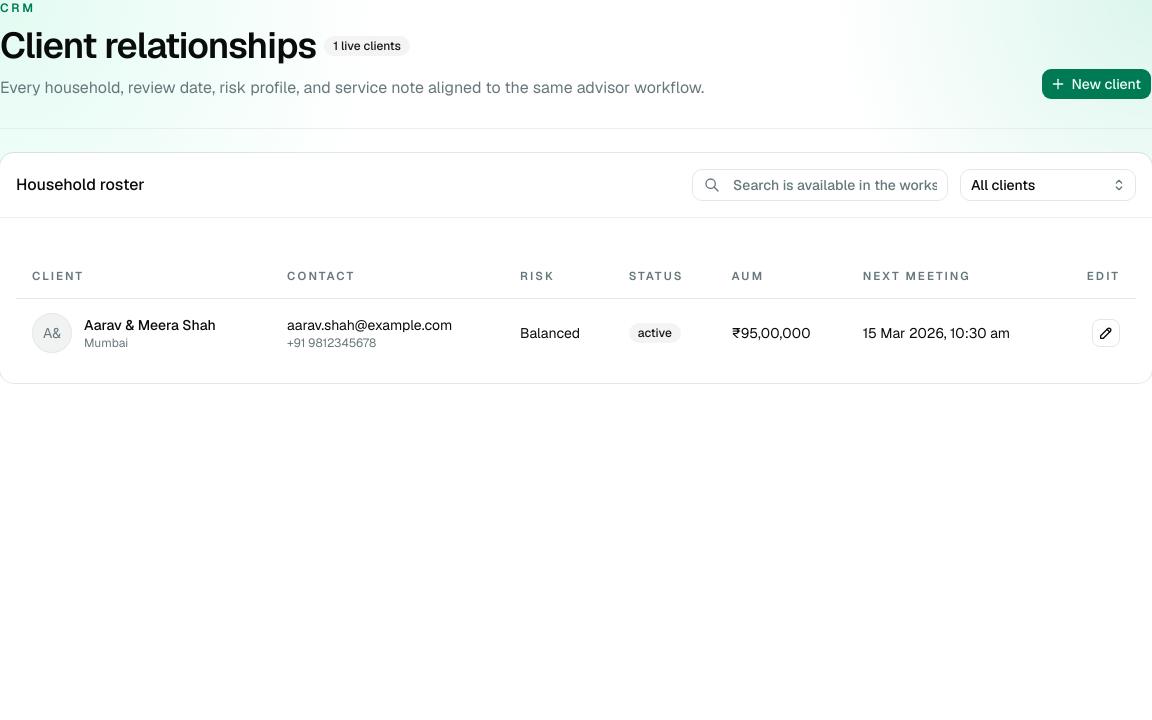
Scenario: ClientsPage › opens the new client intake dialog on user interaction
This screenshot has width=1152, height=720.
Click the button "New client": (1096, 84) [1040,68,1151,100]
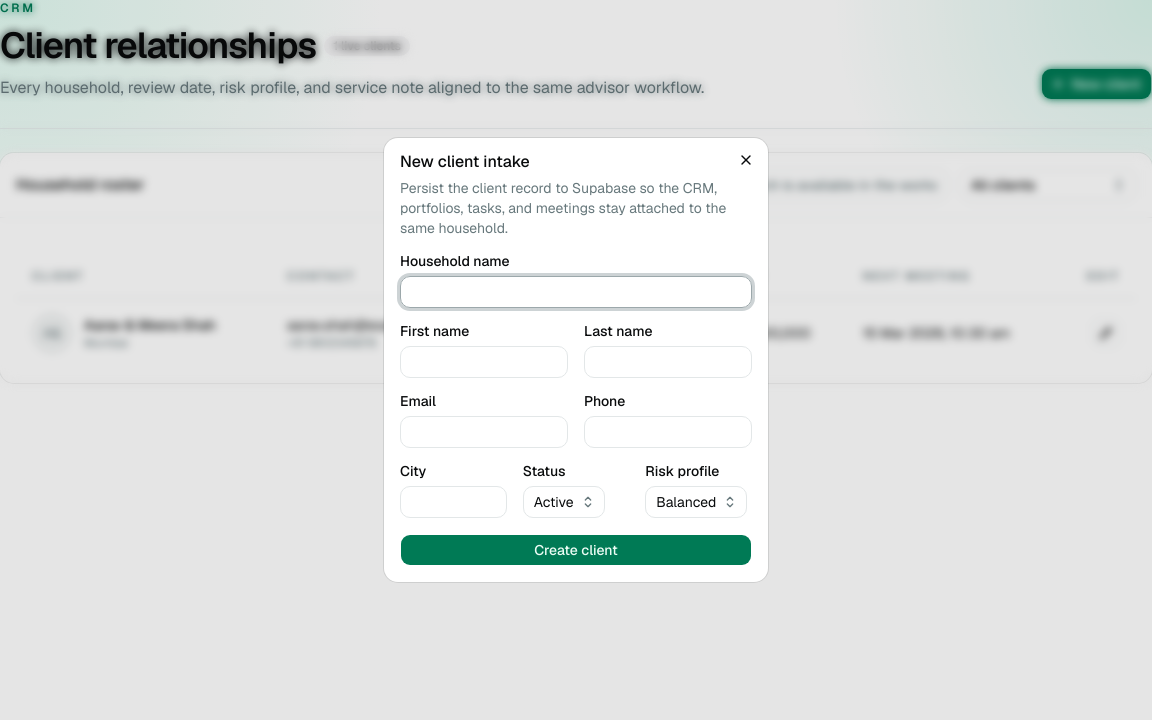
Check: the heading "New client intake" is shown, box [400,151,530,172]
Check: the field labelled "Household name" is shown, box [400,276,752,308]
Check: the field labelled "Email" is shown, box [400,416,568,448]
